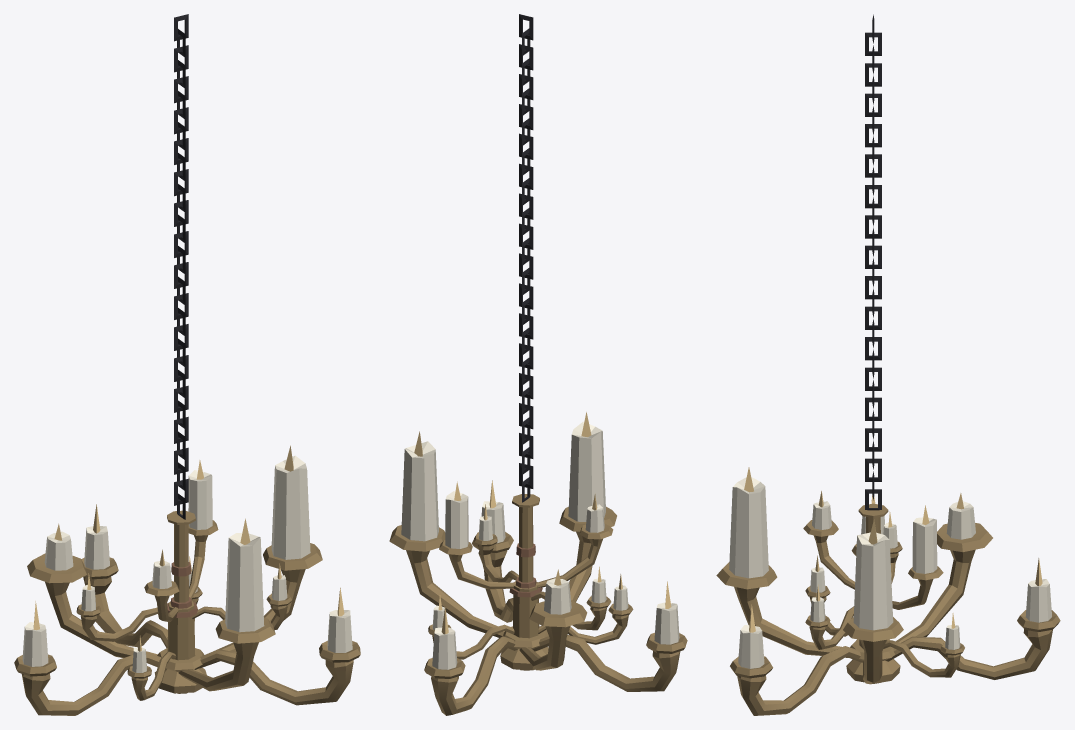
The model's file is Chandelier_3.fbx.
3 views of the same model, side by side, from view 1: azimuth 30°, elevation 25°; view 2: azimuth 150°, elevation 25°; view 3: azimuth 270°, elevation 25° (orthographic). The views are drawn at different scales.
Parts seen in each view (by area): view 1: polySurface1446; view 2: polySurface1446; view 3: polySurface1446.
Part boxes in pixels (x1,y1,x2,y2): polySurface1446: (14,14,360,715); polySurface1446: (389,14,687,715); polySurface1446: (716,14,1060,715).
Bounding box in the file's own units: 138 × 294 × 138.
